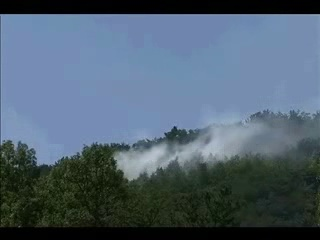smoke: (111, 114, 314, 180)
